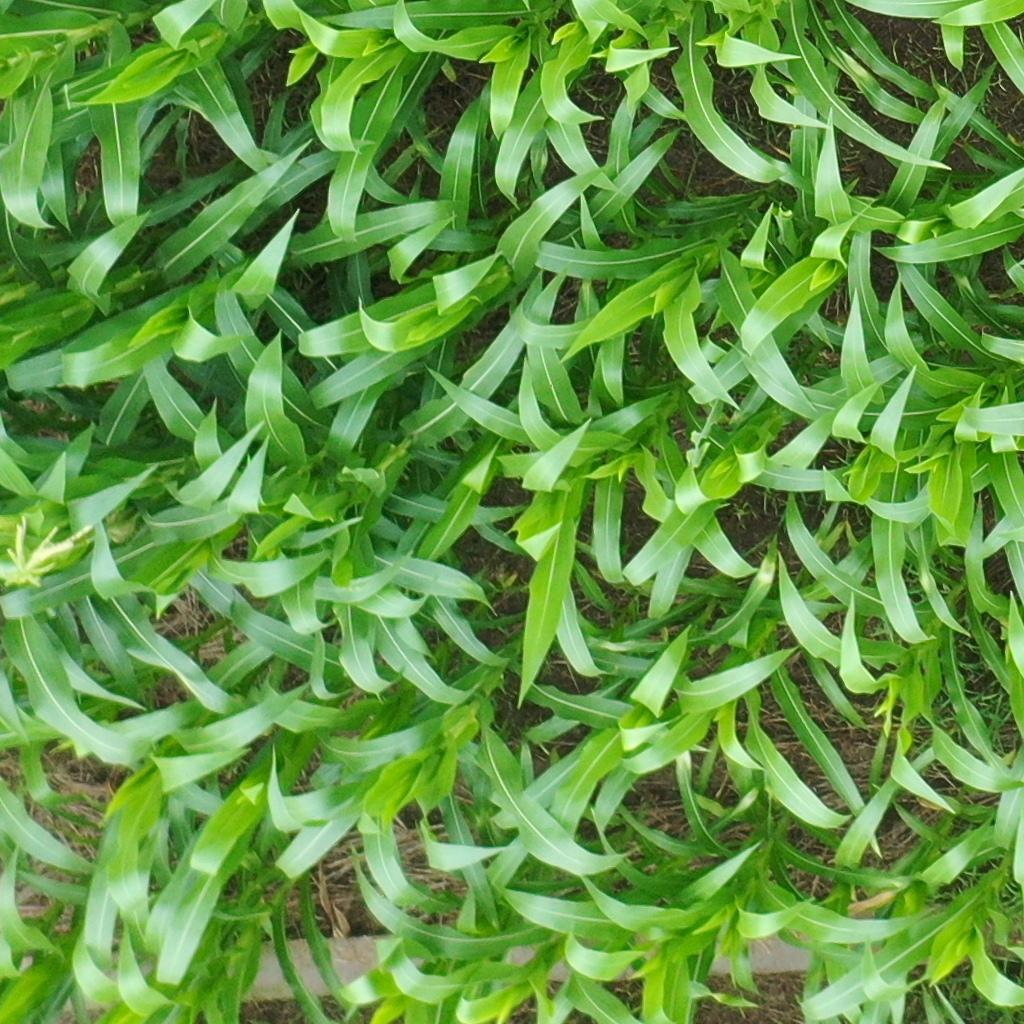Tassel: (1, 511, 96, 593)
